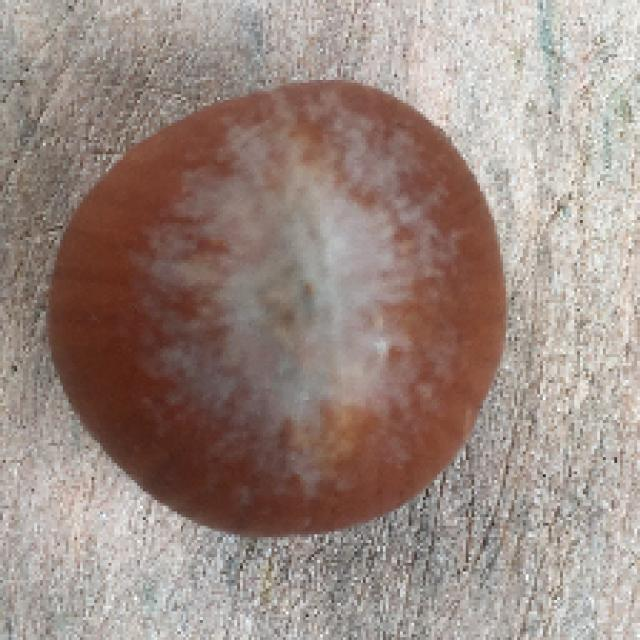qualityHazelnut: (45, 76, 513, 543)
